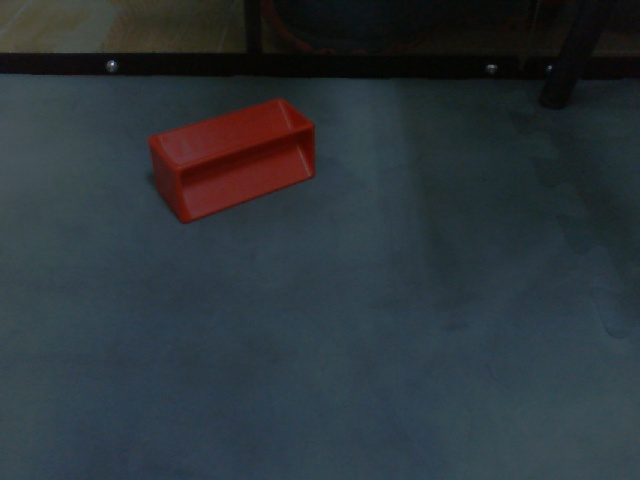RedSample: (145, 96, 319, 227)
